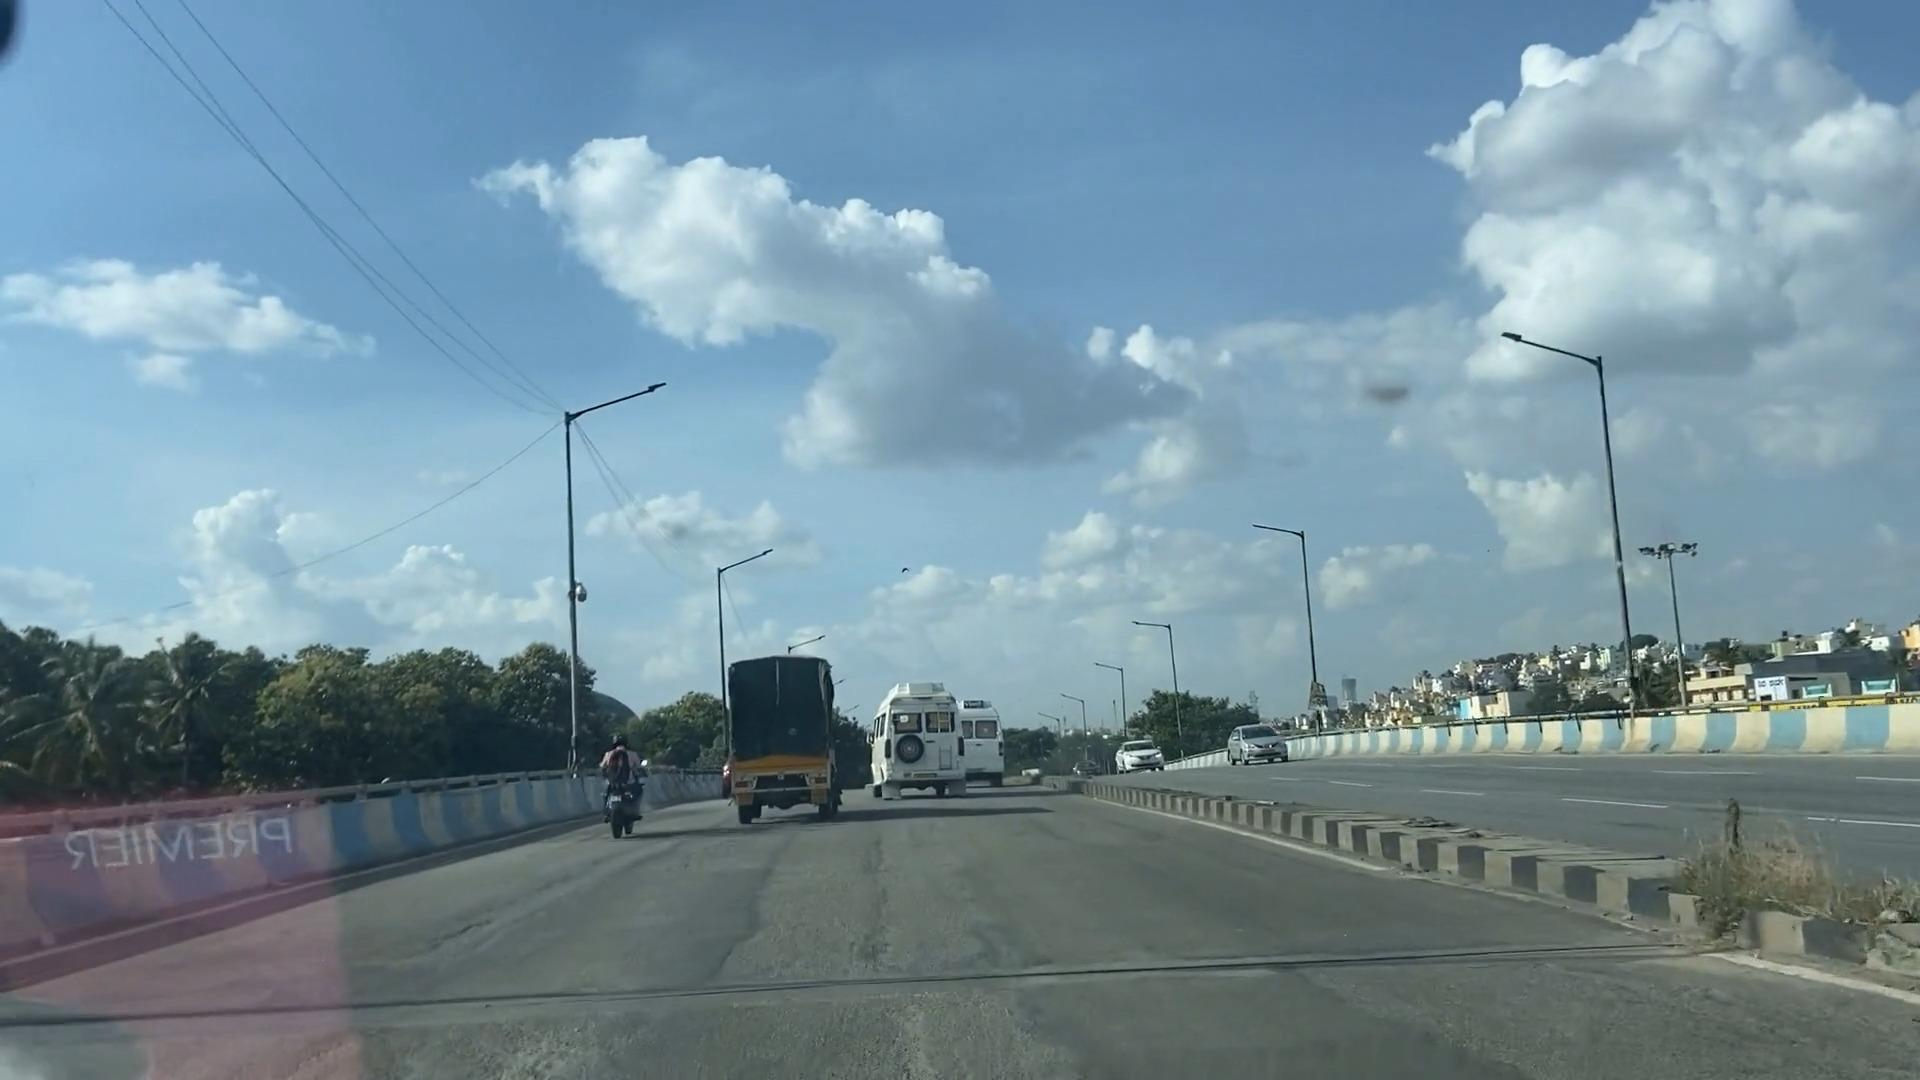HMV: (700, 650, 840, 818), (882, 669, 972, 793)
LMV: (583, 745, 657, 831)
RoadDamages: (1323, 959, 1821, 1080), (673, 869, 1055, 1004), (236, 1002, 729, 1073), (393, 886, 622, 1029), (865, 994, 1065, 1071)
